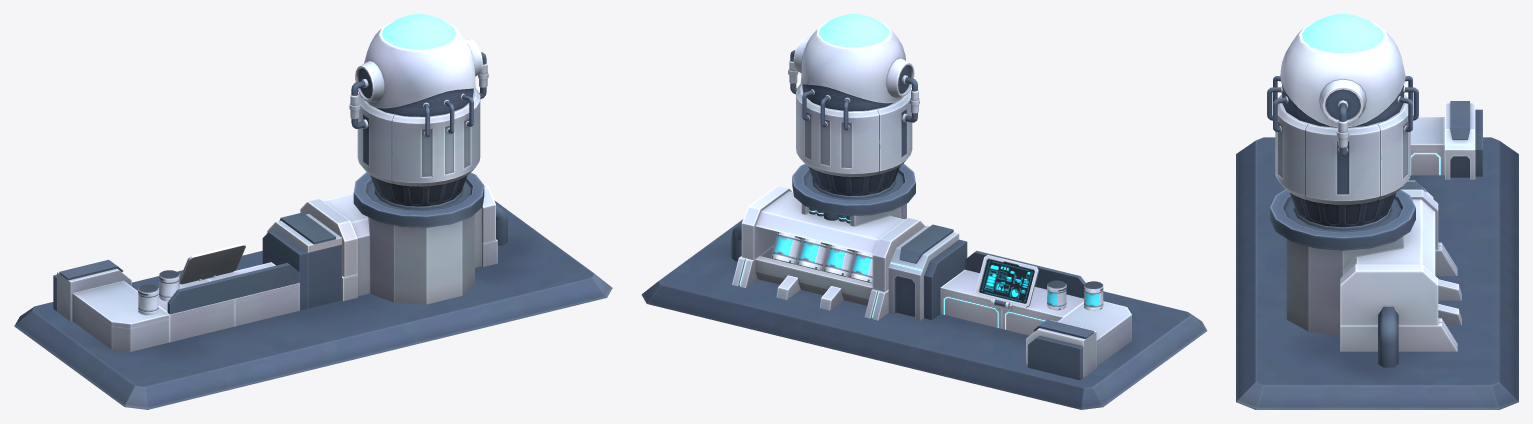
File: obj_lab04.gltf
3 views of the same model, side by side, from view 1: azimuth 30°, elevation 25°; view 2: azimuth 150°, elevation 25°; view 3: azimuth 270°, elevation 25° (orthographic). The views are drawn at different scales.
Parts seen in each view (by area): view 1: obj_lab04; view 2: obj_lab04; view 3: obj_lab04.
Part boxes in pixels (x1,y1,x2,y2): obj_lab04: (14,14,612,409); obj_lab04: (641,14,1207,409); obj_lab04: (1236,14,1518,409).
Size of what is drawn, in the model's own units: 10.57 by 5.75 by 4.79.
6 materials, 6 textured.
